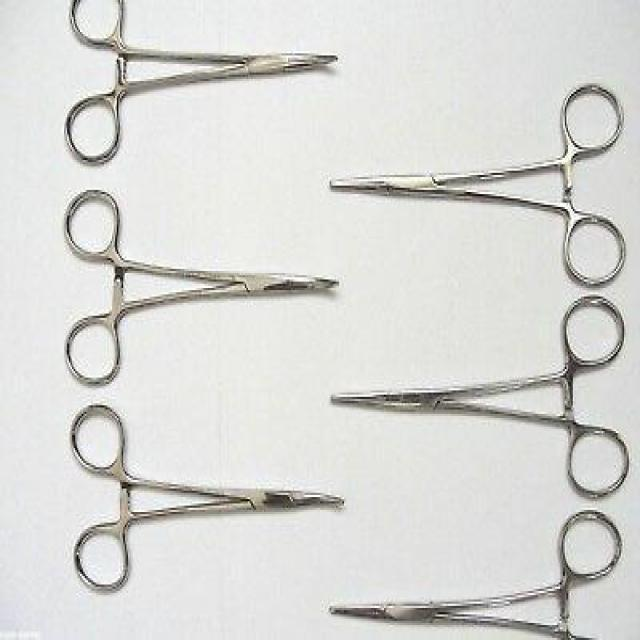Hemostat: (328, 290, 632, 504), (326, 79, 629, 292), (62, 181, 341, 386), (69, 398, 348, 598), (62, 0, 342, 173), (326, 507, 623, 640)
